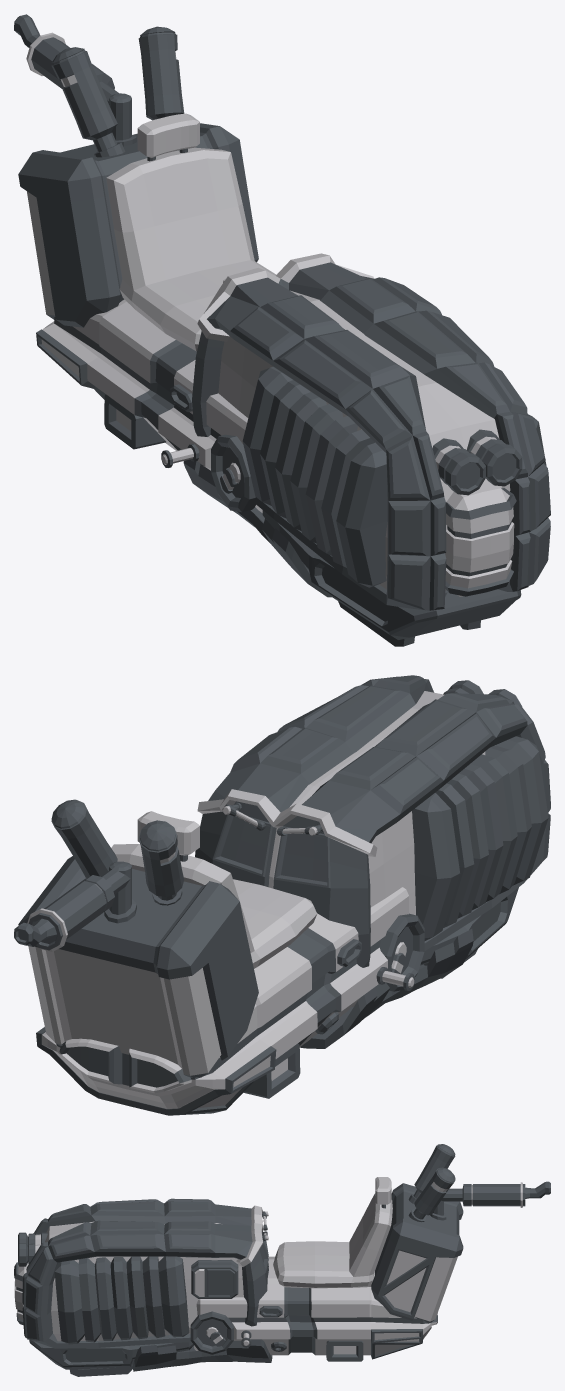
Rendered from Personal_Vehicle_02_Neutral.fbx.
The picture shows the model from 3 angles, top to bottom: view 1: azimuth 30°, elevation 25°; view 2: azimuth 150°, elevation 25°; view 3: azimuth 270°, elevation 25°; orthographic projection. The views are drawn at different scales.
Visible parts, largest first — view 1: Personal_Vehicle_02_Neutral; view 2: Personal_Vehicle_02_Neutral; view 3: Personal_Vehicle_02_Neutral.
Boxes of the visible parts, x1,y1,x2,y2 form: Personal_Vehicle_02_Neutral: (14, 14, 550, 646); Personal_Vehicle_02_Neutral: (14, 675, 550, 1115); Personal_Vehicle_02_Neutral: (14, 1144, 550, 1376).
Bounding box in the file's own units: 131 × 184 × 429.
Materials: 2 (2 with a texture image).
